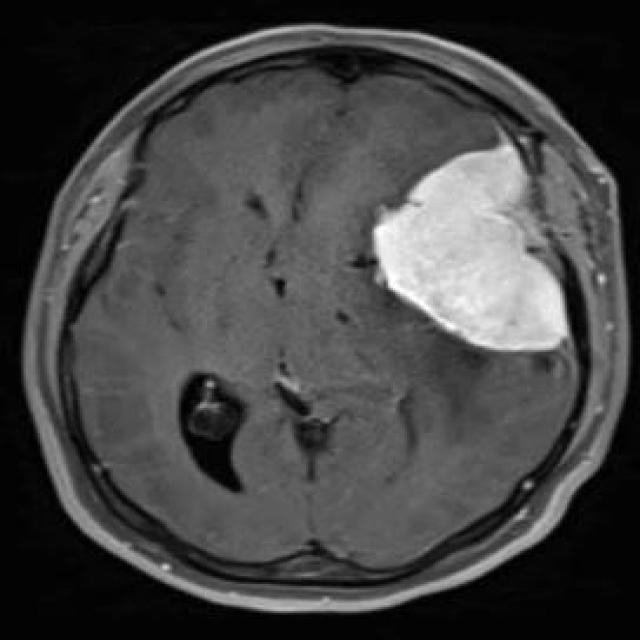Tumor-Cell: (368, 120, 593, 382)
